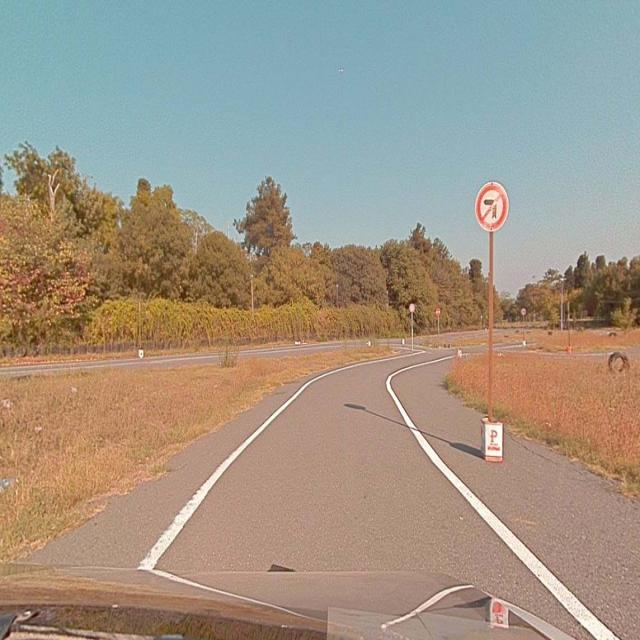soladonulmez: (475, 181, 508, 231)
